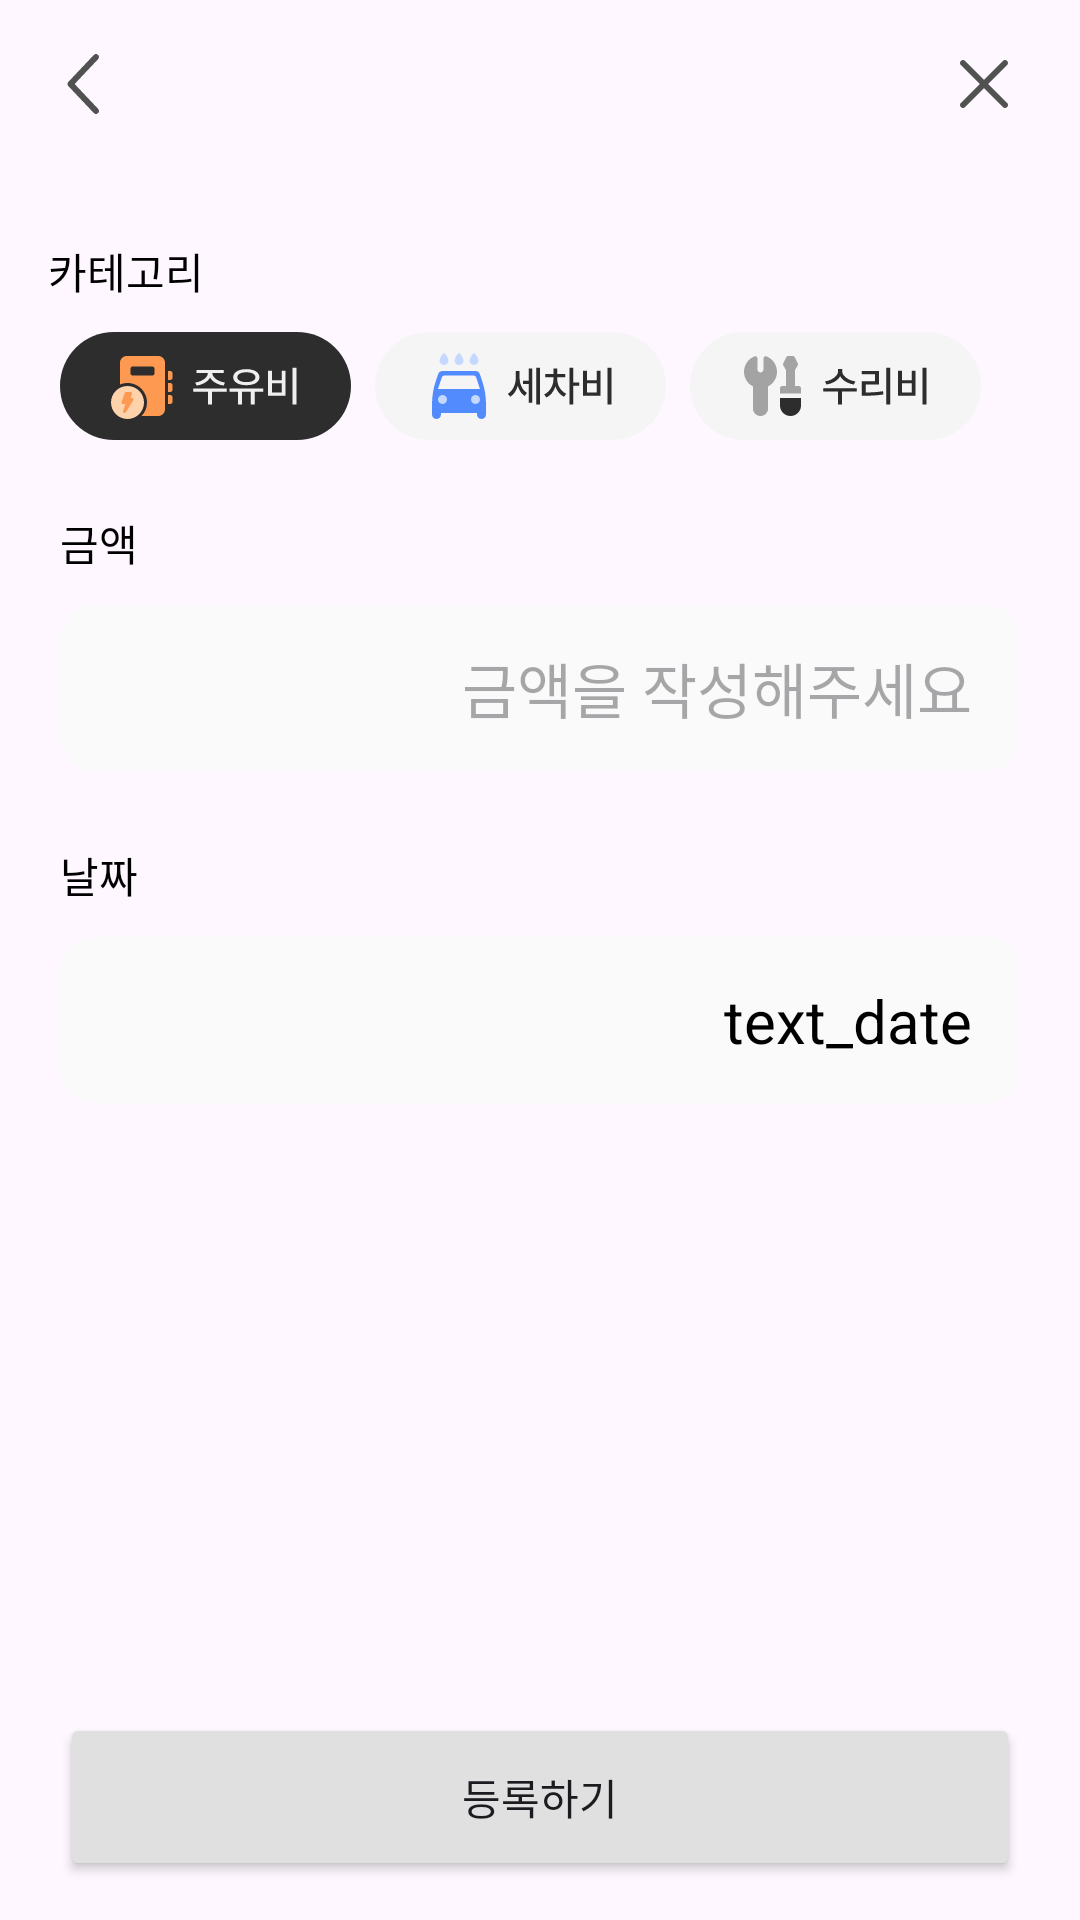

Point at icon controls on the screen. Image size 1080px x 1920px, points as (x,y).
back: (83,84)
close: (984,84)
